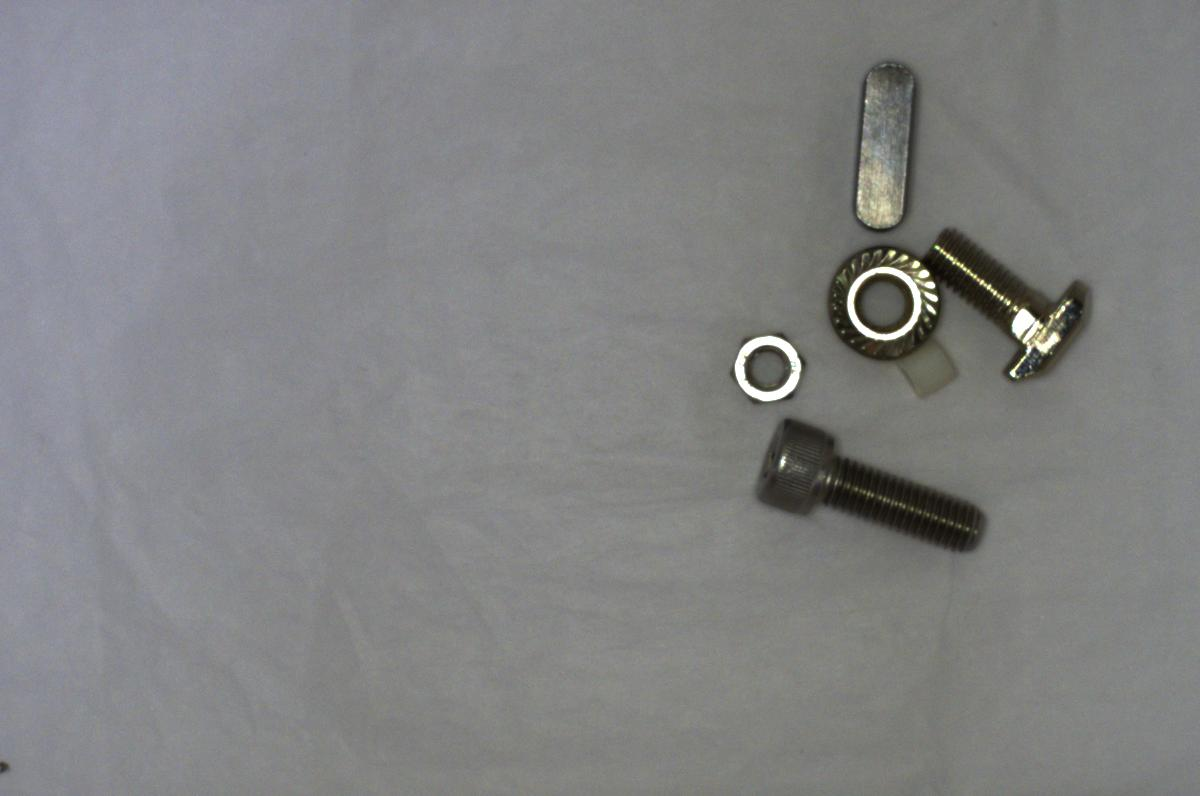Flange nut: (820, 243, 944, 363)
Hexagon nut: (718, 321, 818, 408)
Hexagon screw: (742, 403, 1005, 568)
Keybar: (841, 50, 926, 235)
Plastic cushion pillar: (897, 332, 968, 405)
T-shaped screw: (924, 220, 1101, 386)
